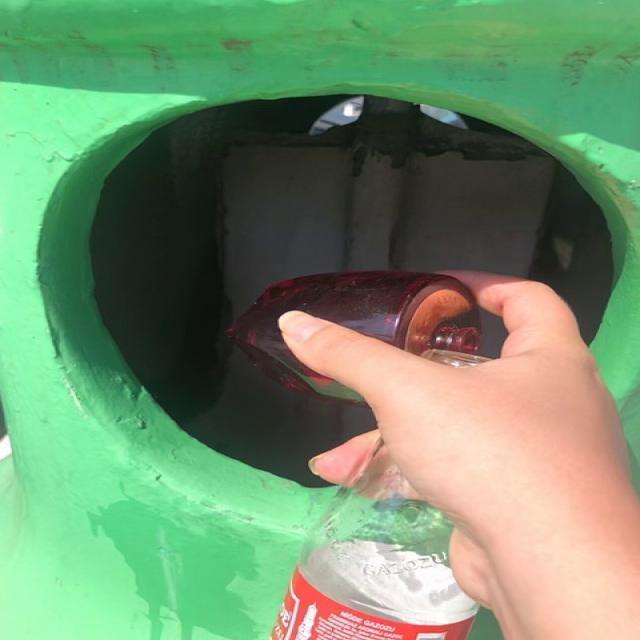glass: (271, 433, 479, 640), (228, 272, 480, 370)
